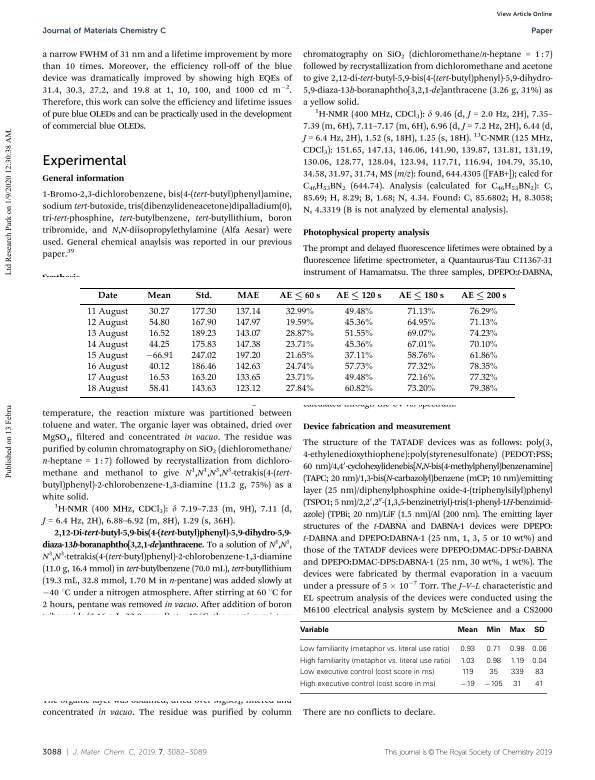borderless: (79, 286, 515, 397), (299, 620, 547, 694)
cell: (298, 657, 451, 666), (298, 645, 450, 654), (298, 680, 436, 689), (298, 668, 435, 677), (335, 291, 382, 301), (397, 291, 444, 301), (460, 291, 507, 301), (86, 307, 128, 318), (86, 318, 128, 329), (86, 329, 128, 340), (86, 340, 128, 351), (86, 351, 128, 362), (86, 362, 128, 373), (86, 373, 128, 384), (86, 384, 128, 395), (278, 291, 321, 301), (343, 307, 373, 318), (406, 307, 436, 318), (468, 307, 498, 318), (343, 318, 373, 329), (406, 318, 436, 329), (468, 318, 498, 329), (343, 329, 373, 340), (406, 329, 436, 340), (468, 329, 498, 340), (343, 340, 373, 351), (406, 340, 436, 351), (468, 340, 498, 351), (144, 351, 174, 362), (343, 351, 373, 362), (406, 351, 436, 362), (468, 351, 498, 362), (343, 362, 373, 373), (406, 362, 436, 373), (468, 362, 498, 373), (343, 373, 373, 384), (406, 373, 436, 384), (468, 373, 498, 384), (343, 384, 373, 395), (406, 384, 436, 395), (468, 384, 498, 395), (285, 307, 314, 318), (285, 318, 314, 329), (285, 329, 314, 340), (285, 340, 314, 351), (285, 351, 314, 362), (285, 362, 314, 373), (285, 373, 314, 384), (285, 384, 314, 395), (190, 307, 217, 318), (234, 307, 261, 318), (190, 318, 217, 329), (234, 318, 261, 329), (190, 329, 217, 340), (234, 329, 261, 340), (190, 340, 217, 351), (234, 340, 261, 351), (190, 351, 217, 362), (234, 351, 261, 362), (190, 362, 217, 373), (234, 362, 261, 373), (190, 373, 217, 384), (234, 373, 261, 384), (190, 384, 217, 395), (234, 384, 261, 395), (298, 626, 329, 634), (148, 307, 170, 318), (148, 318, 170, 329), (148, 329, 170, 340), (148, 340, 170, 351), (148, 362, 170, 373), (148, 373, 170, 384), (148, 384, 170, 395), (146, 291, 172, 299), (236, 291, 259, 299), (483, 680, 503, 689), (456, 626, 478, 634), (96, 291, 118, 299), (508, 645, 525, 654), (459, 645, 475, 654), (485, 645, 501, 654), (531, 645, 547, 654), (459, 657, 475, 666), (485, 657, 501, 666), (531, 657, 547, 666), (459, 680, 475, 689), (194, 291, 212, 299), (508, 626, 525, 634), (509, 657, 524, 666), (509, 668, 524, 677), (485, 626, 501, 634), (460, 668, 474, 677), (533, 626, 545, 634), (488, 668, 498, 677), (534, 668, 544, 677), (512, 680, 522, 689), (534, 680, 544, 689)
